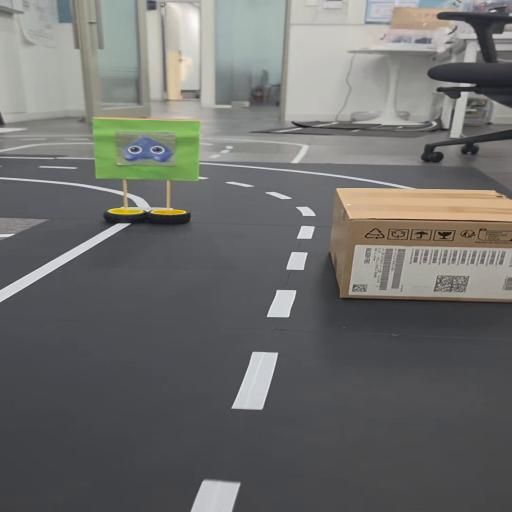Box: (325, 183, 512, 306)
Sign_B: (86, 114, 206, 225)
